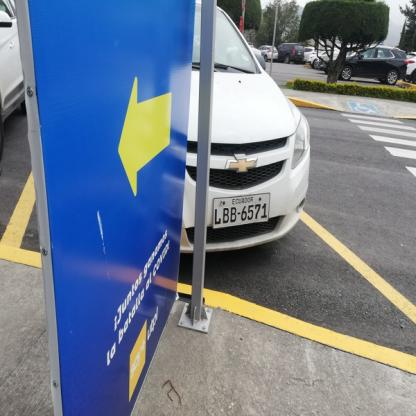Placa: (210, 191, 274, 236)
